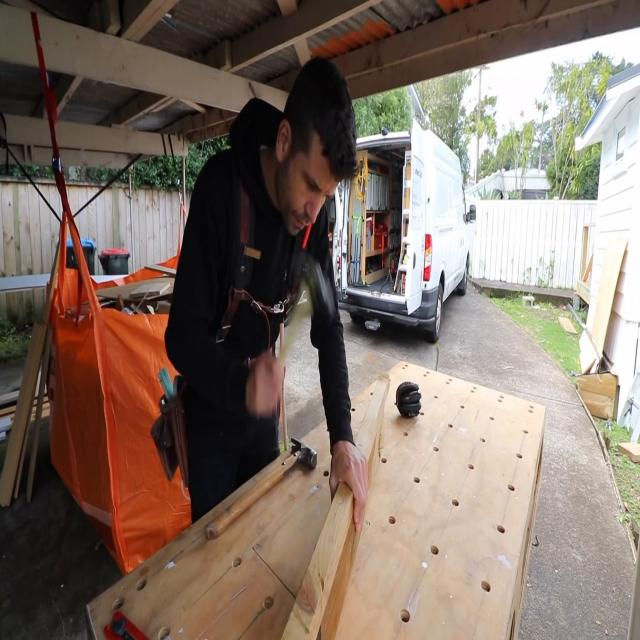hammer: (204, 438, 316, 540)
